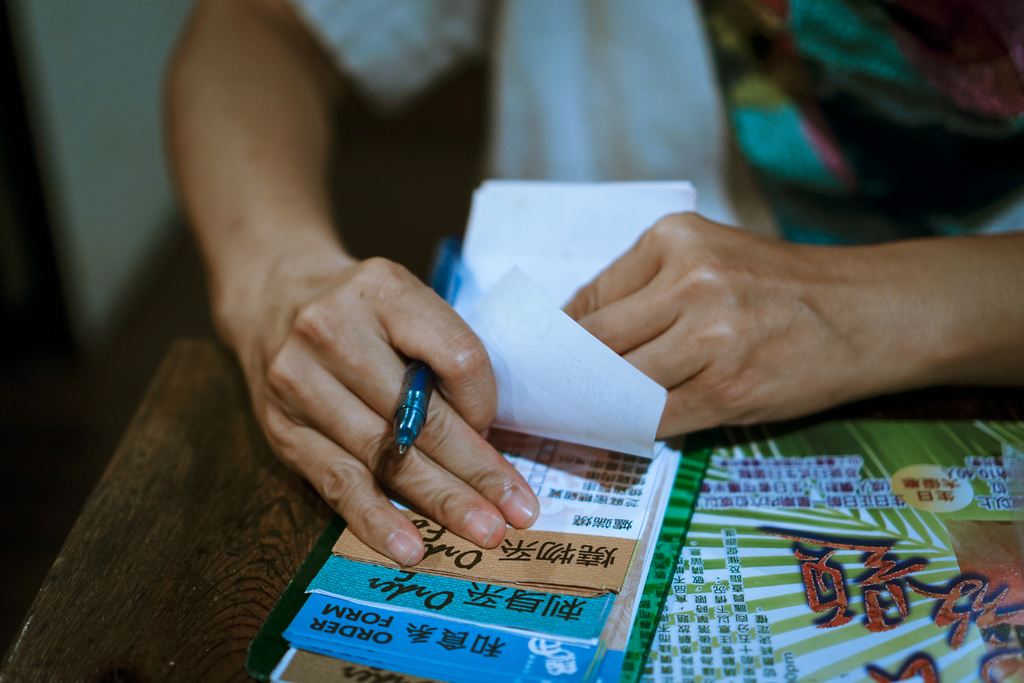Human_hand: (239, 247, 554, 567), (559, 210, 891, 440)
